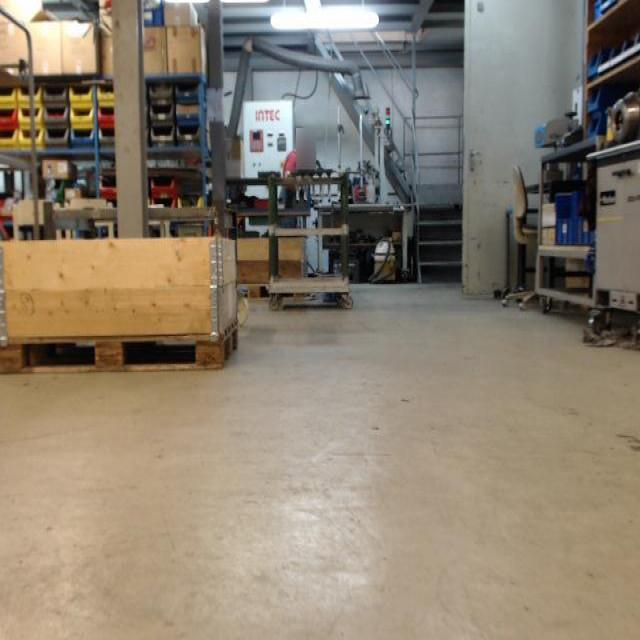pallet: (0, 318, 240, 376), (236, 282, 308, 302)
